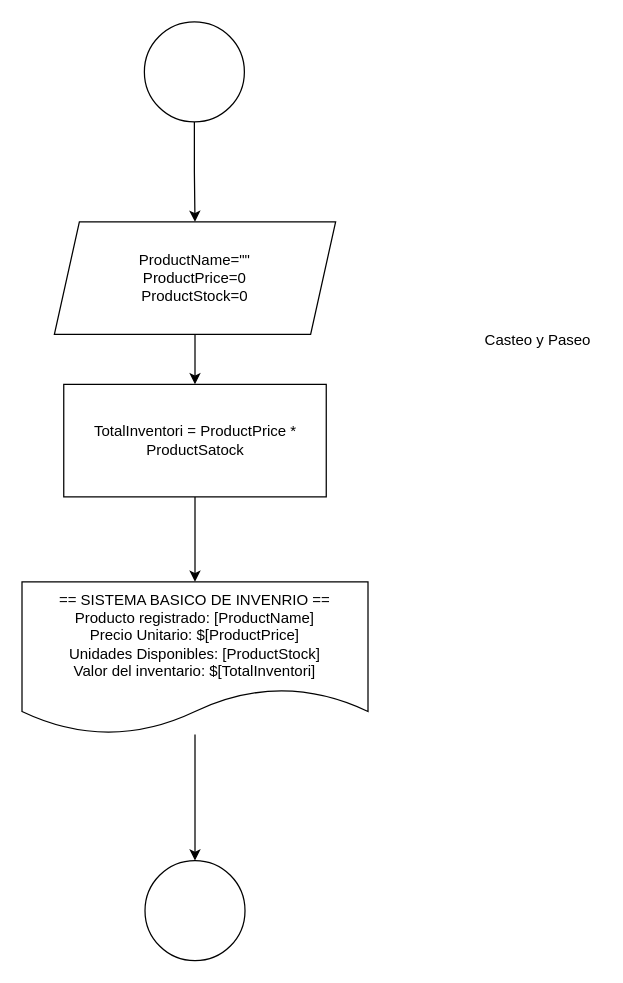
Image size: 623x983. Some labels were removed from this diagram. Here are the shapes that lost their labels. From the top down, the centre of each, then its label:
(193,71): Inicio
(194,910): fin
